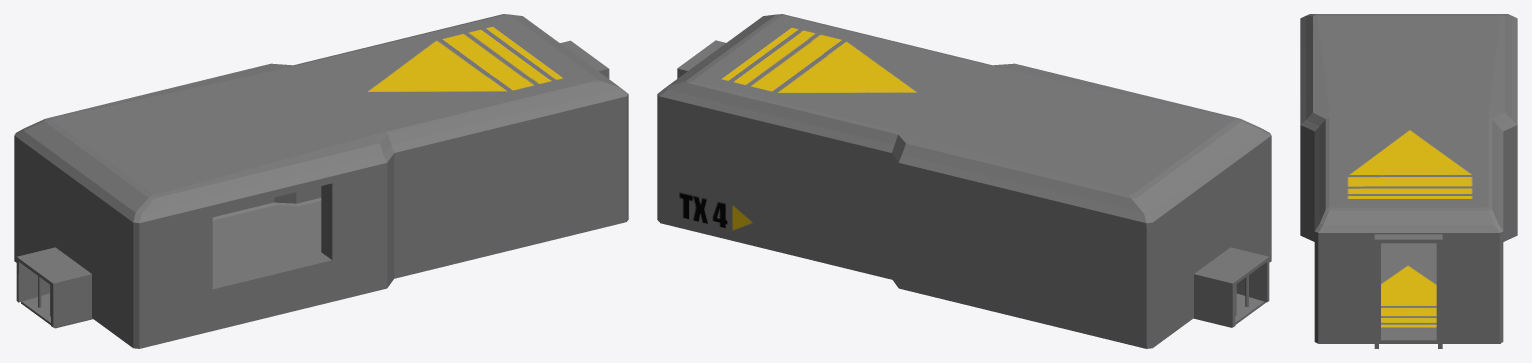
Rendered from Labor.fbx.
3 renders of one model, left to right at view 1: azimuth 30°, elevation 25°; view 2: azimuth 150°, elevation 25°; view 3: azimuth 270°, elevation 25°, orthographic. The views are drawn at different scales.
Visible parts, largest first — view 1: Labor; view 2: Labor; view 3: Labor.
Boxes of the visible parts, bbox=[...] form: Labor: bbox=[14, 14, 628, 348]; Labor: bbox=[657, 14, 1271, 348]; Labor: bbox=[1300, 14, 1517, 348].
Bounding box in the file's own units: 882 × 217 × 340.
